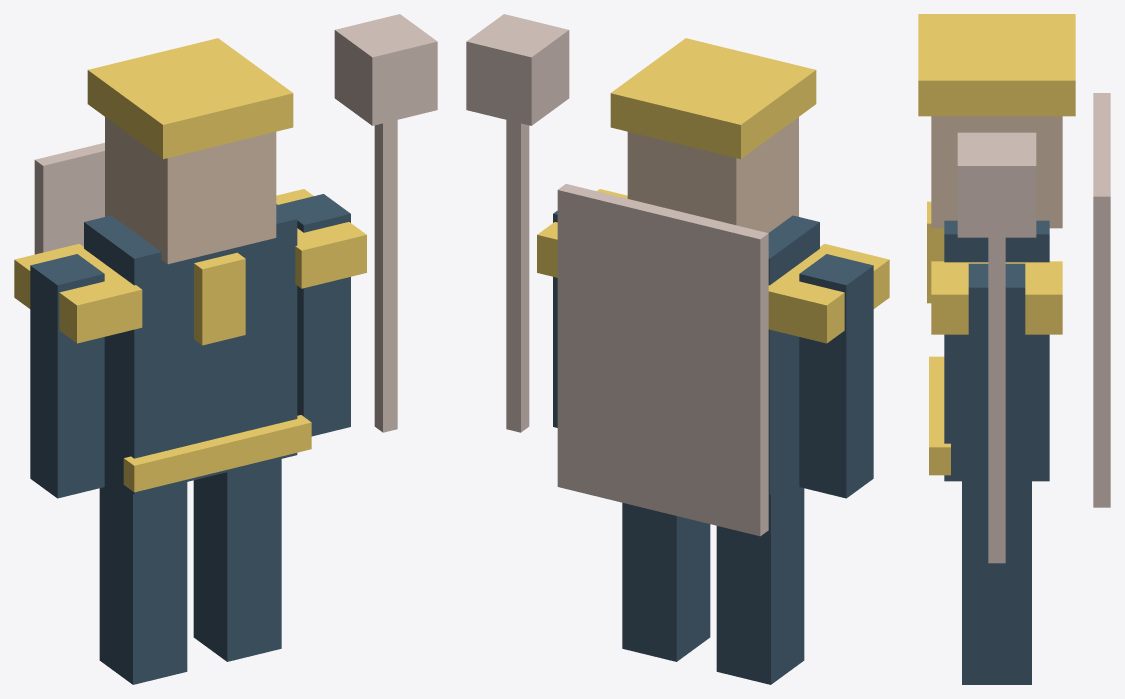
The model's file is 12_keir_signalborn_courier_from_prize.glb.
The picture shows the model from 3 angles, left to right: view 1: azimuth 30°, elevation 25°; view 2: azimuth 150°, elevation 25°; view 3: azimuth 270°, elevation 25°; orthographic projection. The views are drawn at different scales.
Parts seen in each view (by area): view 1: Keir Signalborn, Courier from Prize; view 2: Keir Signalborn, Courier from Prize; view 3: Keir Signalborn, Courier from Prize.
Part boxes in pixels (<box>): Keir Signalborn, Courier from Prize: <box>14,14,437,684</box>; Keir Signalborn, Courier from Prize: <box>466,14,889,684</box>; Keir Signalborn, Courier from Prize: <box>918,14,1110,684</box>.
Size of the model in its own units: 0.9862 by 1.44 by 0.4192.
